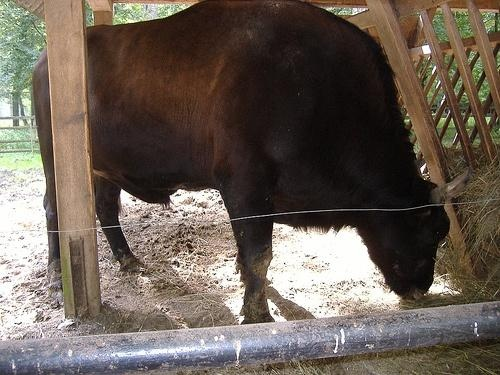cow: (32, 1, 470, 318)
